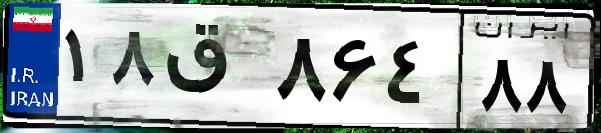1: (57, 26, 110, 100)
4: (385, 28, 445, 110)
6: (330, 28, 385, 110)
8: (270, 28, 330, 110), (475, 38, 525, 113), (525, 38, 570, 115), (110, 28, 158, 98)
ق: (158, 20, 270, 120)
